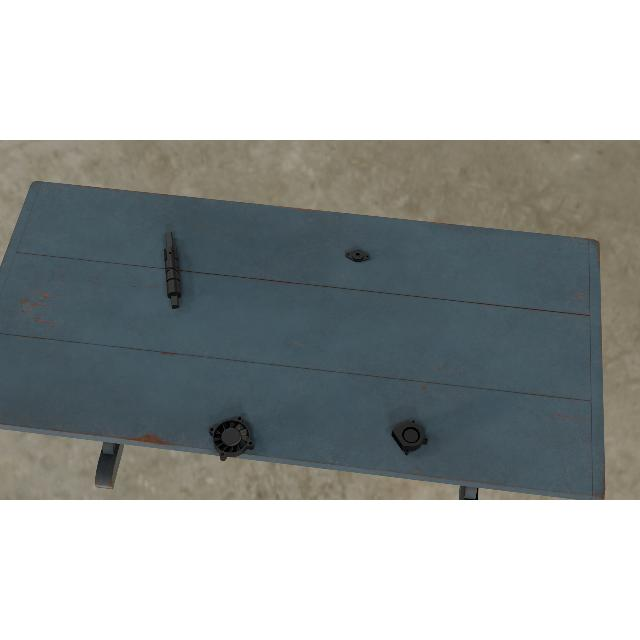Pieza1: (162, 229, 182, 311)
Pieza2: (345, 248, 371, 264)
Pieza3: (390, 417, 430, 457)
Pieza4: (208, 414, 256, 462)
